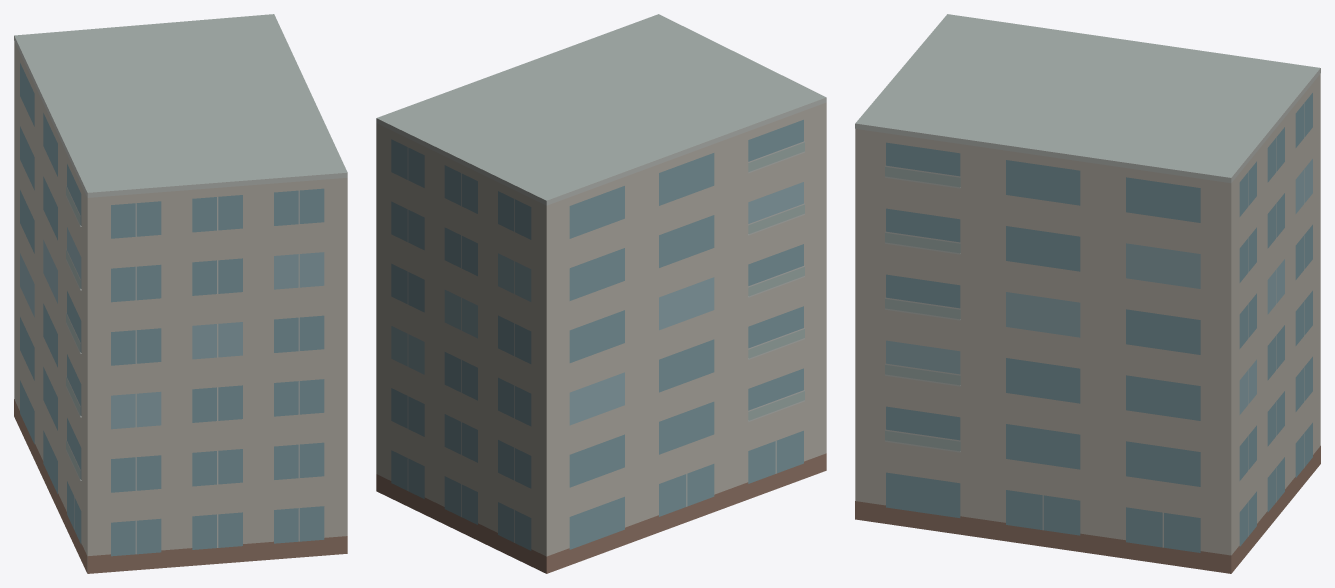
File: survey-upis-32706153.glb
3 renders of one model, left to right at view 1: azimuth 30°, elevation 25°; view 2: azimuth 150°, elevation 25°; view 3: azimuth 270°, elevation 25°, orthographic. The views are drawn at different scales.
Visible parts, largest first — view 1: survey-upis-32706153.tmp; view 2: survey-upis-32706153.tmp; view 3: survey-upis-32706153.tmp.
Part boxes in pixels (box(x1,y1,x2,y2)): survey-upis-32706153.tmp: box(14, 14, 347, 573); survey-upis-32706153.tmp: box(376, 14, 826, 573); survey-upis-32706153.tmp: box(855, 14, 1320, 573).
Size of the model in its own units: 16.26 by 18.3 by 19.51.
